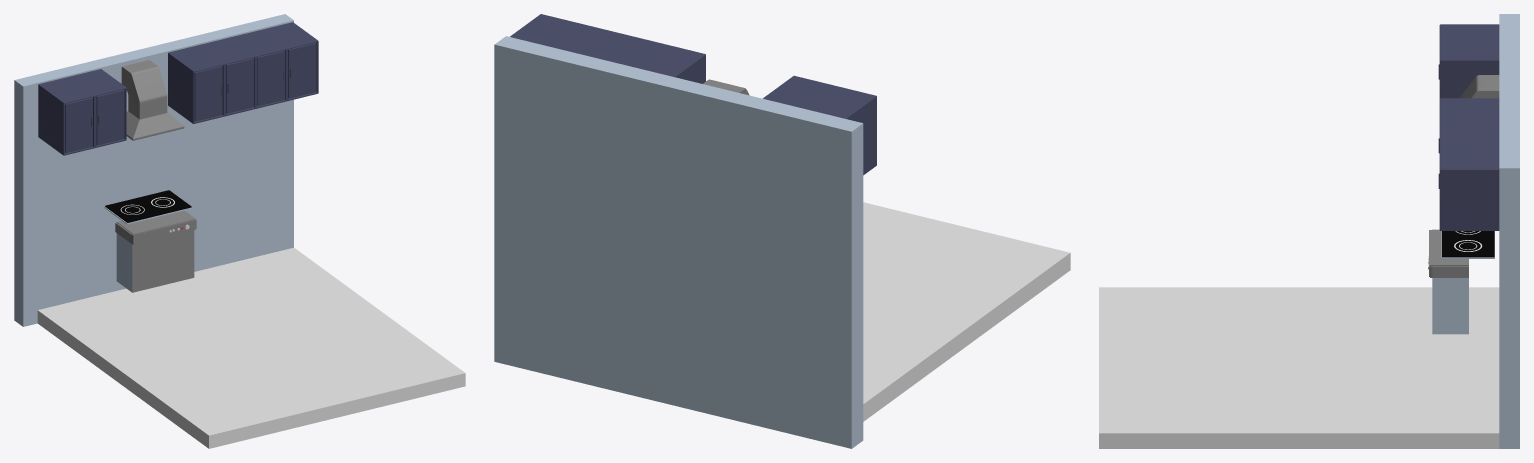
Rendered from Kitchen.gltf.
3 views of the same model, side by side, from view 1: azimuth 30°, elevation 25°; view 2: azimuth 150°, elevation 25°; view 3: azimuth 270°, elevation 25° (orthographic). The views are drawn at different scales.
Parts seen in each view (by area): view 1: Floor, Walls, Cabinet01, Cabinet02, Cabinet03, Oven, Ventilation, Stove; view 2: Walls, Floor, Cabinet01, Cabinet02, Cabinet03; view 3: Floor, Walls, Cabinet03, Cabinet01, Cabinet02, Stove, Oven, Ventilation.
Part boxes in pixels (left/top/right/bottom): Floor: left=37, top=247, right=465, bottom=448; Walls: left=14, top=14, right=293, bottom=326; Cabinet01: left=38, top=69, right=126, bottom=155; Cabinet02: left=168, top=37, right=255, bottom=123; Cabinet03: left=231, top=22, right=318, bottom=108; Oven: left=115, top=210, right=196, bottom=292; Ventilation: left=121, top=60, right=184, bottom=140; Stove: left=105, top=190, right=191, bottom=222; Walls: left=494, top=36, right=863, bottom=448; Floor: left=863, top=202, right=1070, bottom=421; Cabinet01: left=763, top=75, right=876, bottom=175; Cabinet02: left=592, top=34, right=705, bottom=83; Cabinet03: left=510, top=14, right=622, bottom=56; Floor: left=1099, top=287, right=1499, bottom=448; Walls: left=1432, top=14, right=1519, bottom=448; Cabinet03: left=1438, top=133, right=1499, bottom=230; Cabinet01: left=1438, top=24, right=1499, bottom=98; Cabinet02: left=1438, top=98, right=1499, bottom=153; Stove: left=1442, top=231, right=1494, bottom=257; Oven: left=1428, top=229, right=1468, bottom=277; Ventilation: left=1459, top=75, right=1499, bottom=98.
Bounding box in the file's own units: 17.97 × 15.24 × 20.7.
